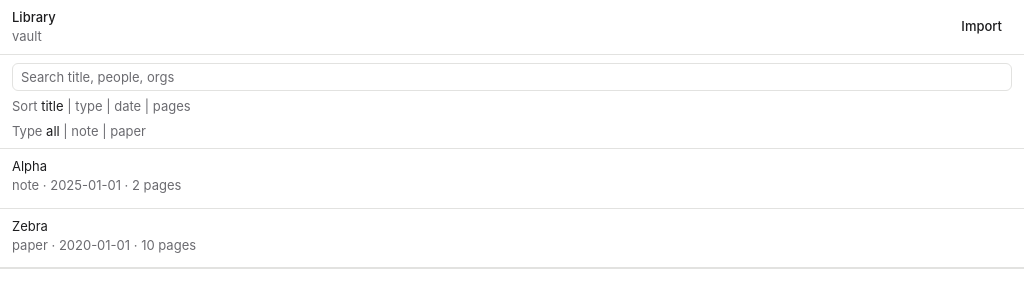
Scenario: LibraryPanel › sorts by title and filters by type
The width and height of the screenshot is (1024, 286).
Expected: the text "Zebra" is shown, [12, 218, 48, 234]
Expected: the button "Alpha note · 2025-01-01 · 2 pages" is shown, [12, 157, 1012, 195]
Click the button "type": (89, 106) [75, 97, 103, 116]
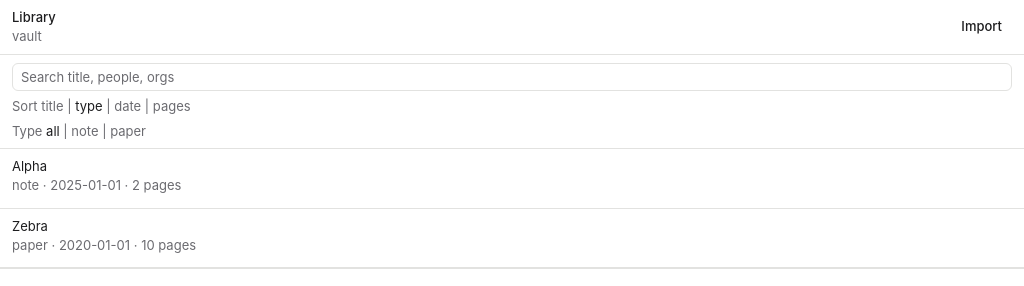
Expected: the button "Alpha note · 2025-01-01 · 2 pages" is shown, [12, 157, 1012, 195]
Expected: the button "Zebra paper · 2020-01-01 · 10 pages" is shown, [12, 217, 1012, 255]
Click the button "note": (85, 131) [71, 122, 98, 140]
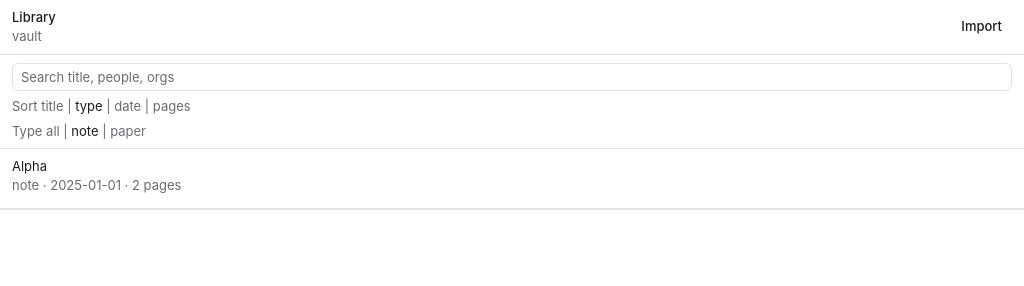
Expected: the text "Alpha" is shown, [12, 158, 47, 174]
Expected: the button "Zebra" is gone
